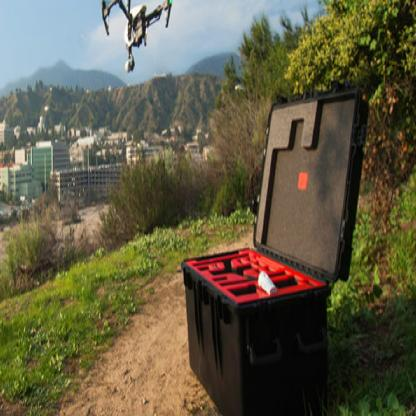drone: (98, 1, 174, 72)
